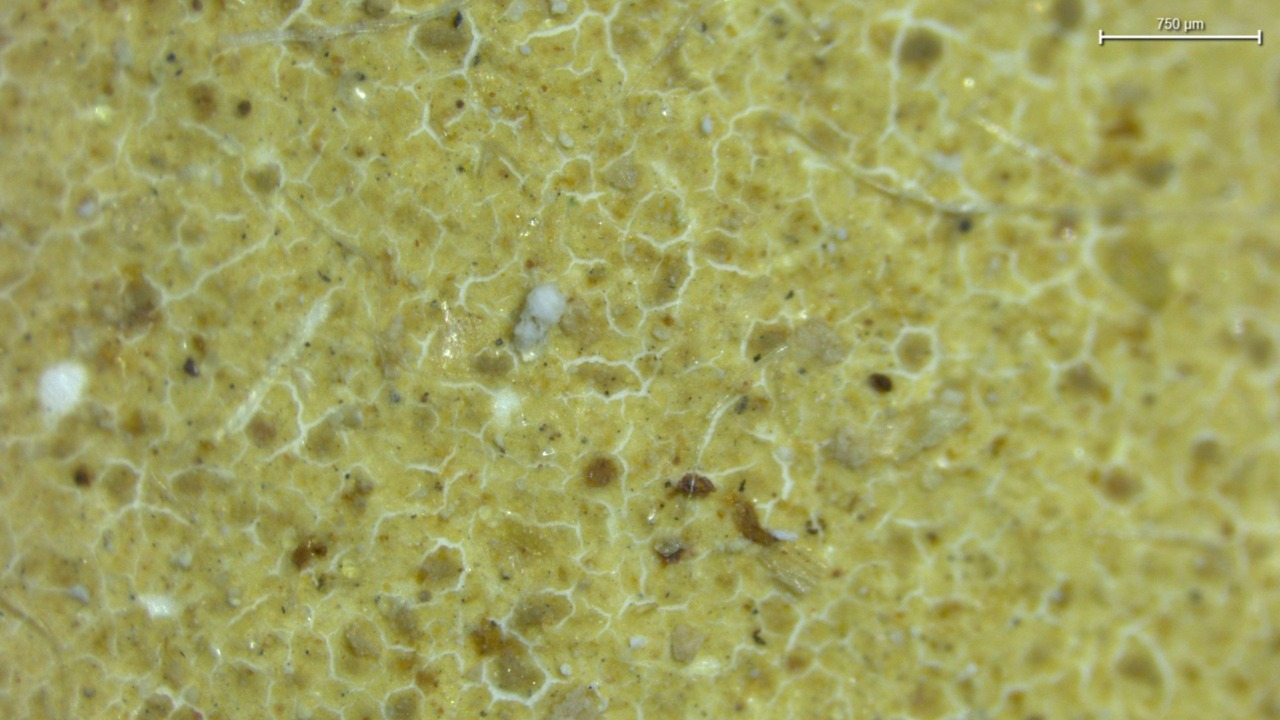microplastic_fragment: (514, 284, 566, 359)
